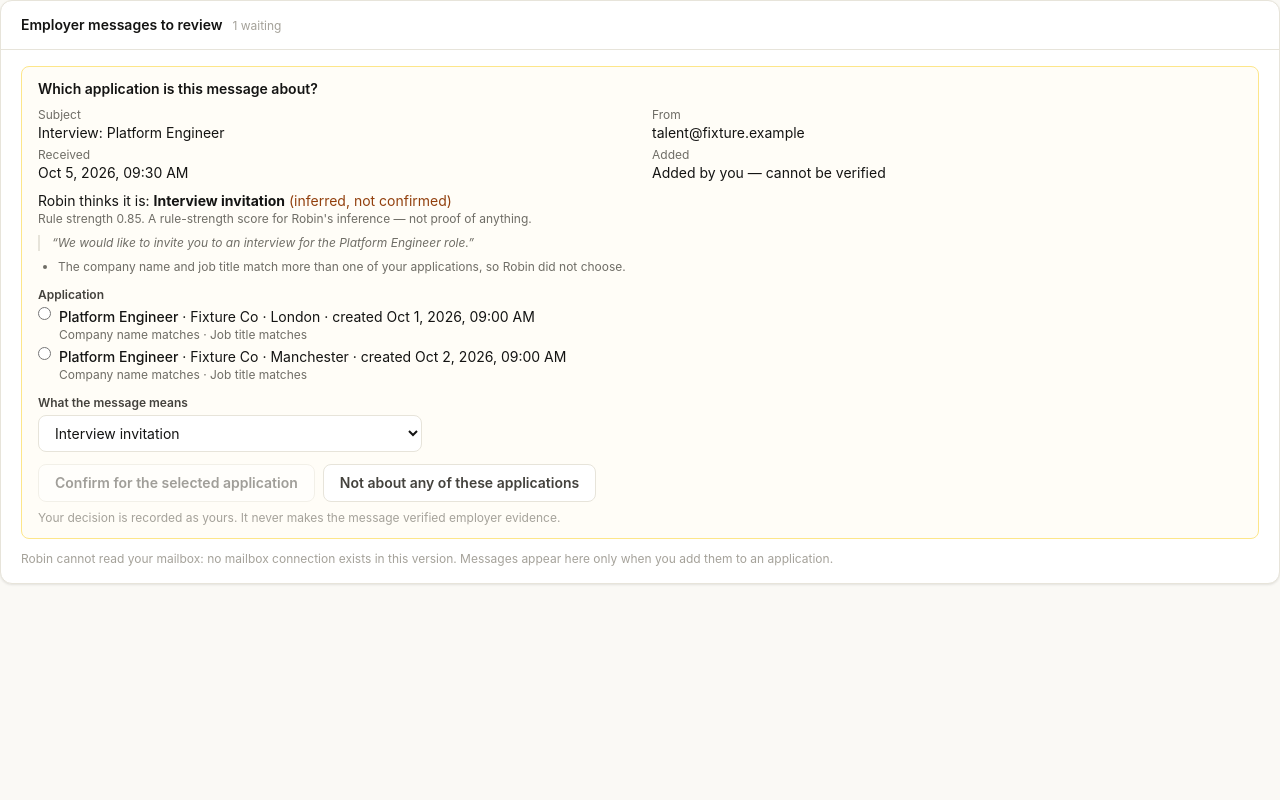
Test case: TrackReviewQueue › never chooses between applications with similar titles for the candidate
This screenshot has width=1280, height=800.
Expected: the text "Which application is this message about?" is shown, [38, 80, 318, 97]
Expected: the text "(inferred, not confirmed)" is shown, [285, 192, 452, 209]
Step 1. Click the 2nd radio button → coordinates (44, 354), box [38, 347, 51, 360]
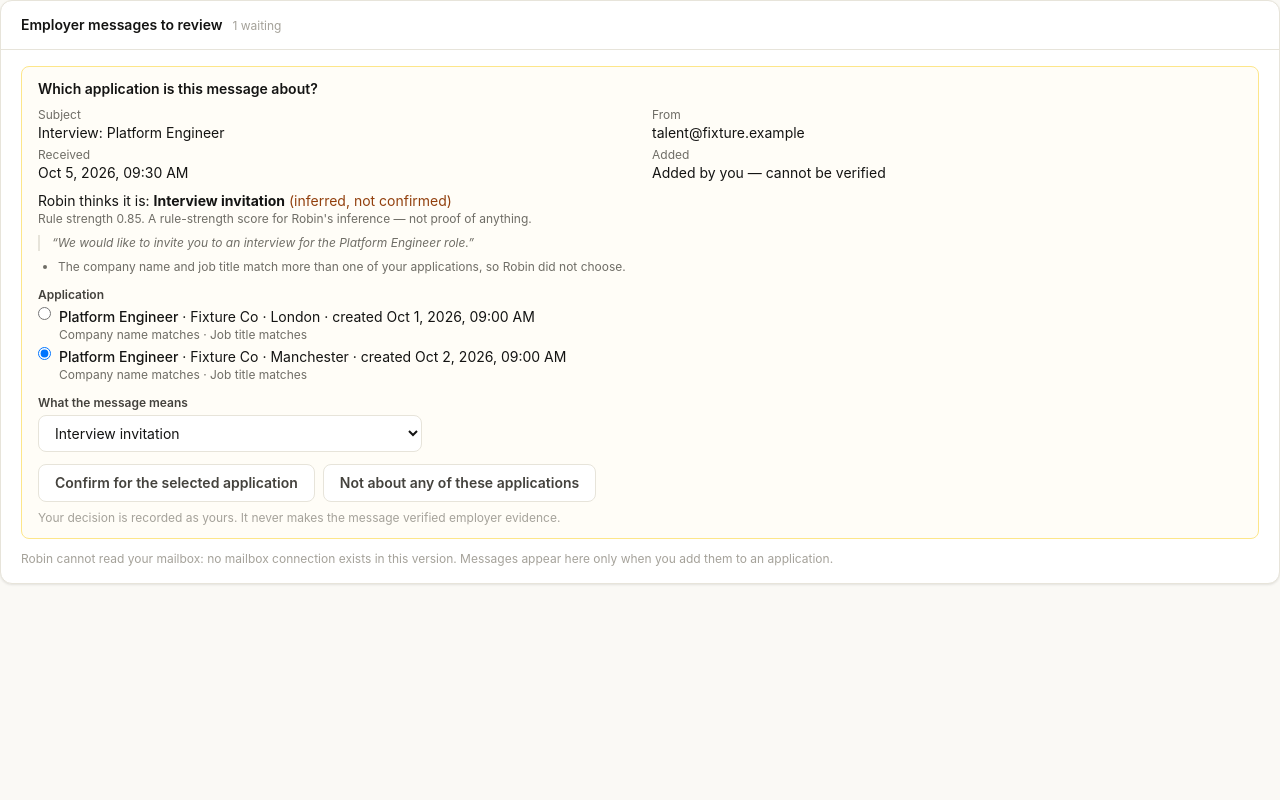
Expected: the button "Confirm for the selected application" is enabled
Step 2. Click the button "Confirm for the selected application" → coordinates (176, 483), box [38, 464, 315, 502]
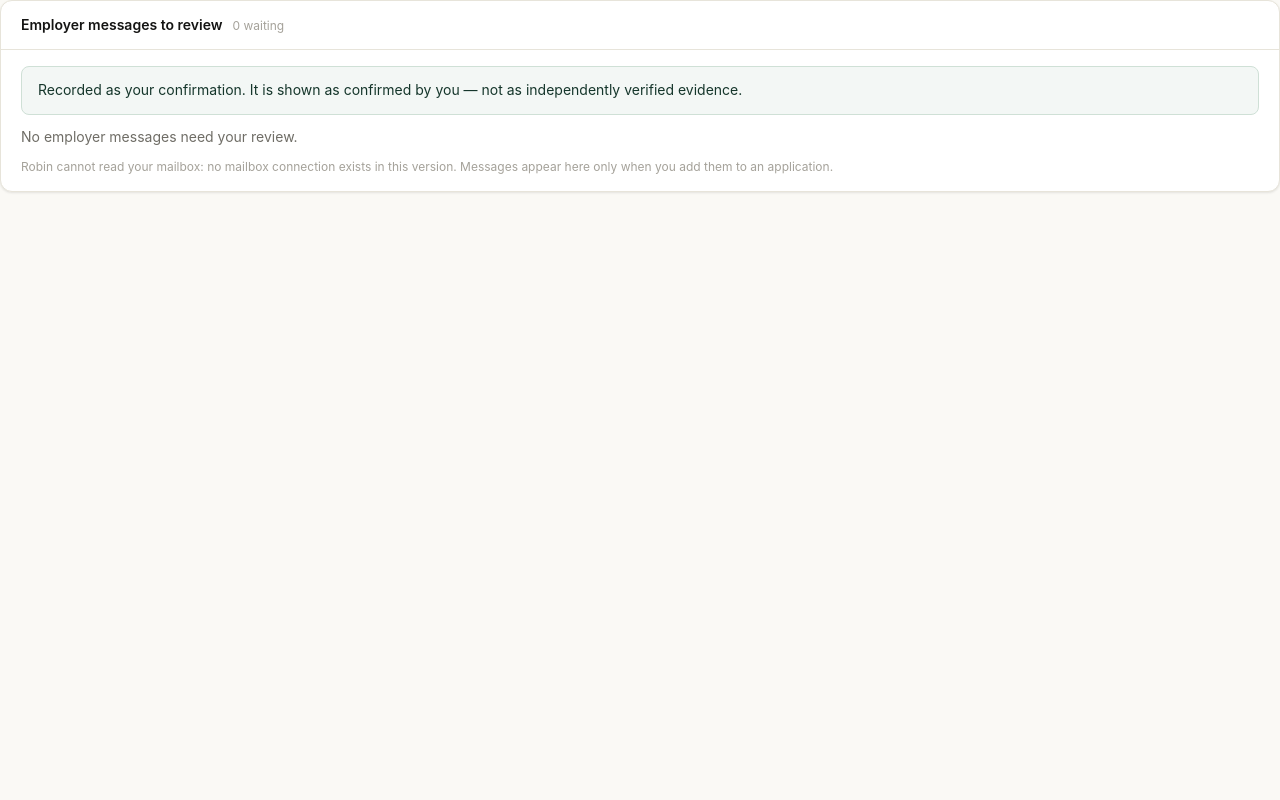
Expected: the text "not as independently verified evidence" is shown, [38, 81, 742, 98]
Expected: the text "No employer messages need your review." is shown, [21, 128, 298, 145]
